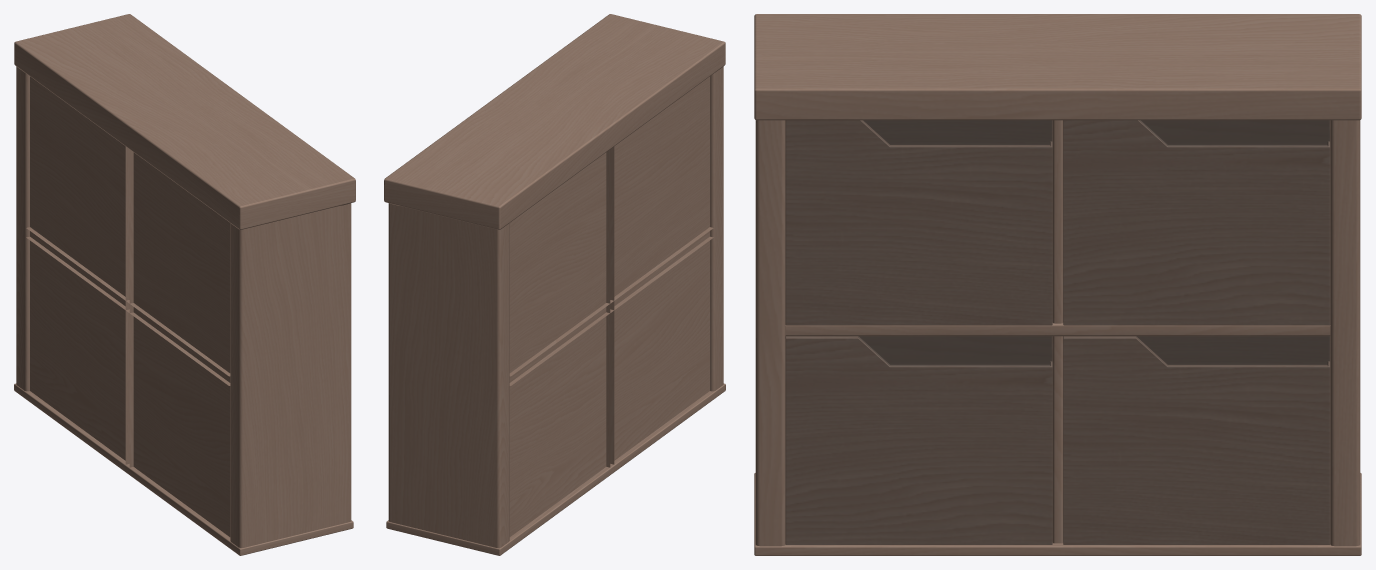
Rendered from EscritorioCajon_v1.glb.
The picture shows the model from 3 angles, left to right: view 1: azimuth 30°, elevation 25°; view 2: azimuth 150°, elevation 25°; view 3: azimuth 270°, elevation 25°; orthographic projection. The views are drawn at different scales.
Parts seen in each view (by area): view 1: EscritorioCajon_v1_GEO; view 2: EscritorioCajon_v1_GEO; view 3: EscritorioCajon_v1_GEO.
Boxes of the visible parts, x1,y1,x2,y2 form: EscritorioCajon_v1_GEO: [14, 14, 355, 555]; EscritorioCajon_v1_GEO: [384, 14, 725, 555]; EscritorioCajon_v1_GEO: [754, 14, 1361, 555].
Bounding box in the file's own units: 0.2041 × 0.5849 × 0.6868.
Materials: 1 (1 with a texture image).
